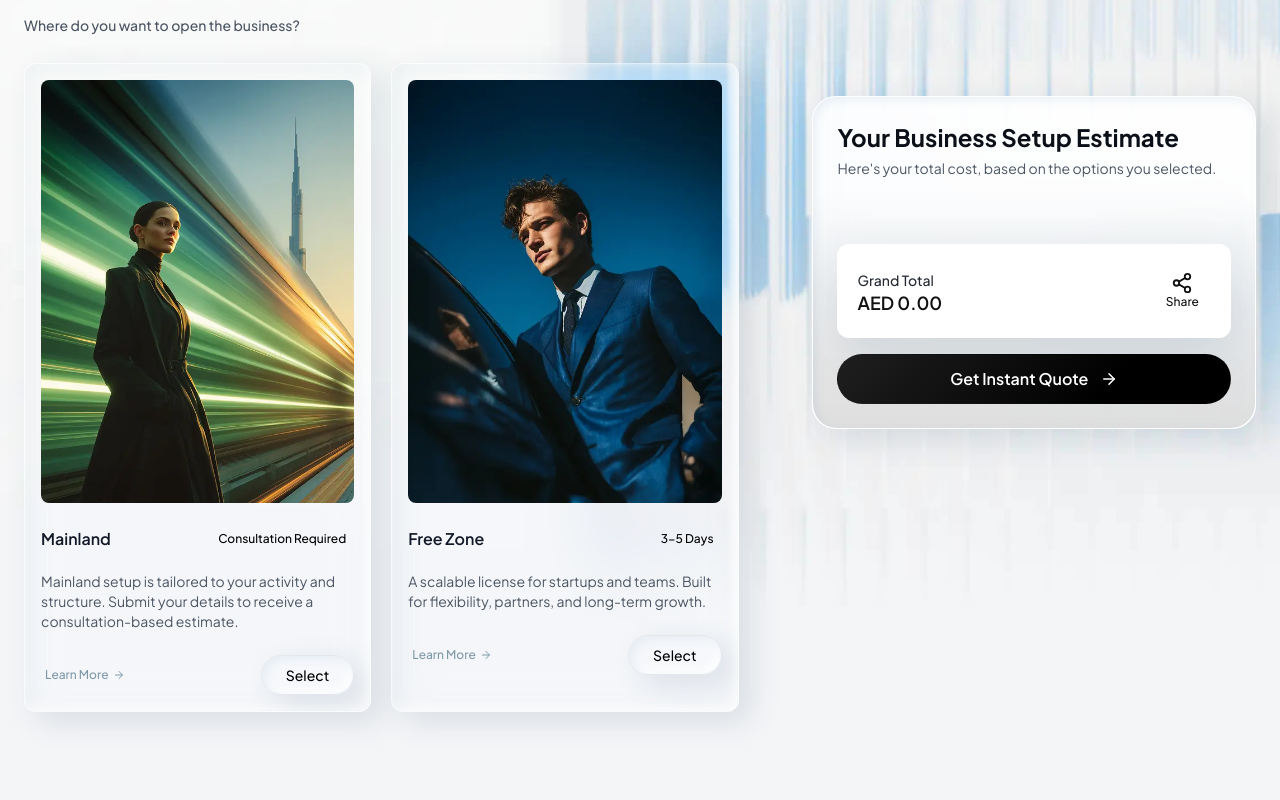
CostCalculatorPage › opens the license modal
(page scrolled)
Step 1. Click the button with aria-label "Learn more about Mainland" → (85,675), box left=41, top=663, right=128, bottom=687
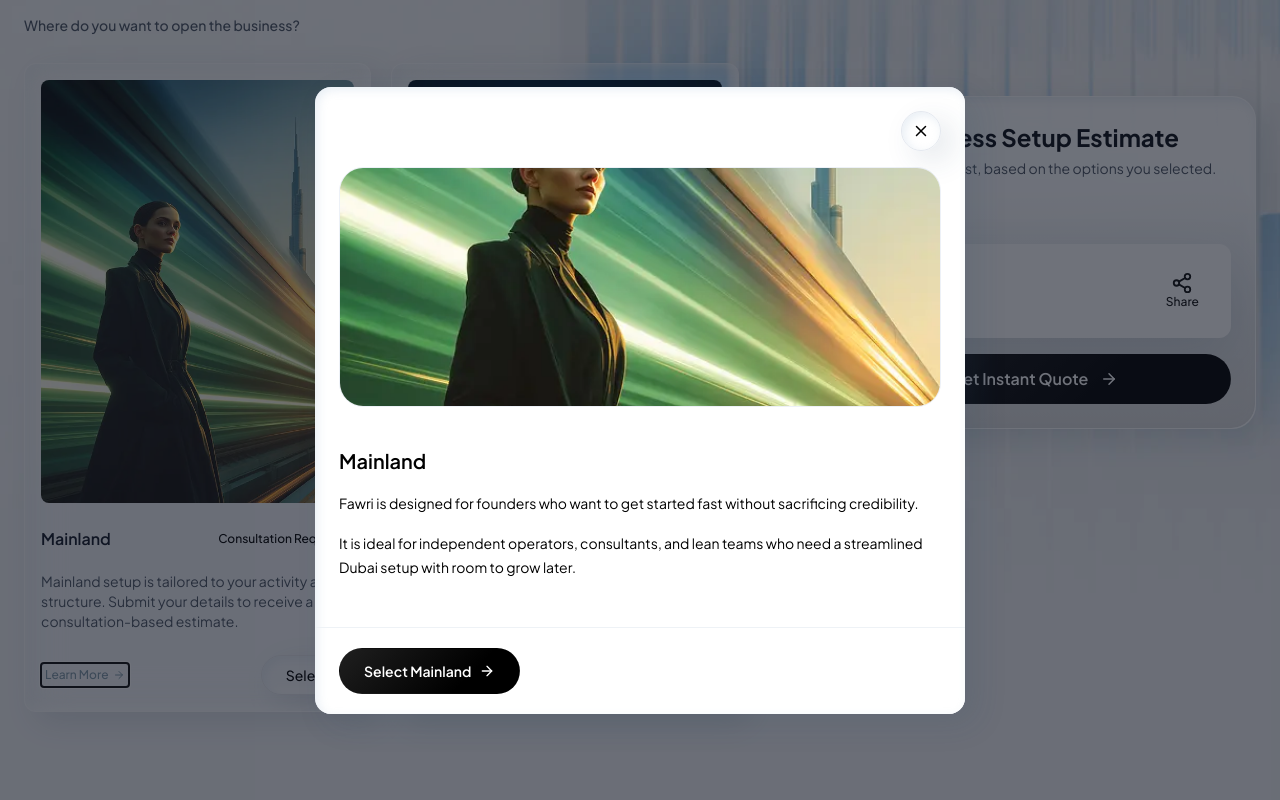
Expected: the dialog "Mainland" is shown, left=315, top=86, right=965, bottom=714
